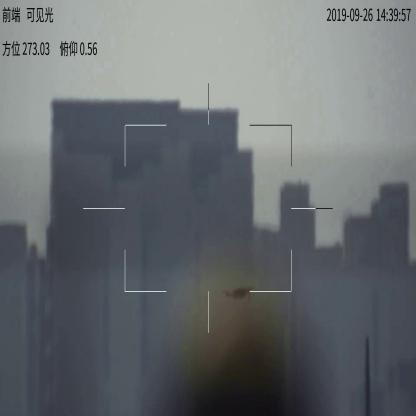uav: (222, 284, 254, 302)
